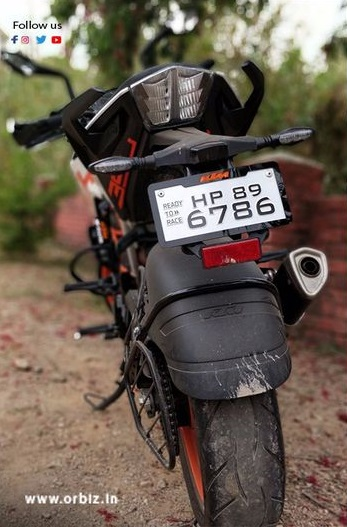HP896786: (152, 165, 285, 242)
